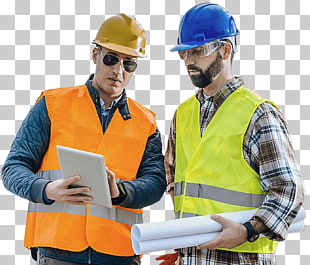casco: (169, 2, 241, 52), (90, 12, 148, 60)
